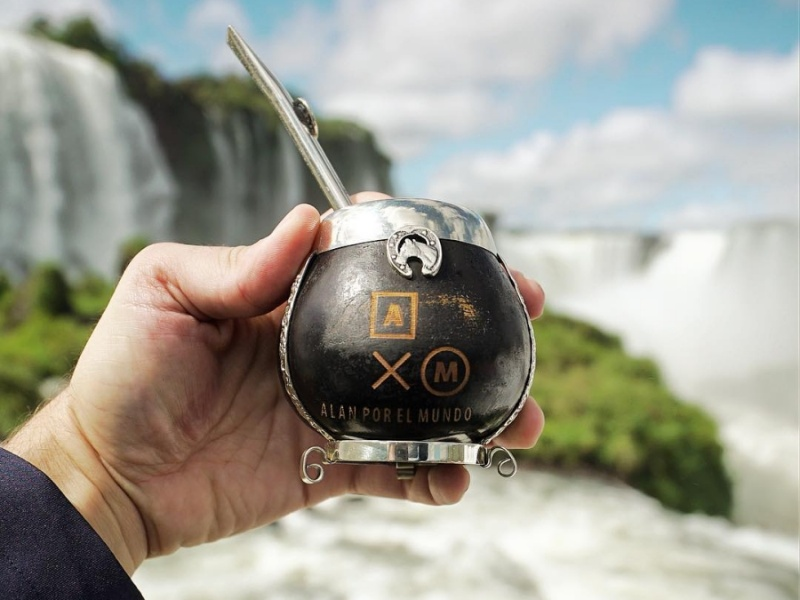guampa: (201, 28, 540, 491)
